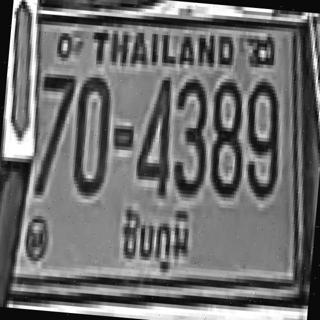N00: (68, 73, 112, 193)
N03: (169, 74, 211, 195)
N04: (133, 73, 175, 194)
N07: (33, 70, 75, 194)
N08: (206, 78, 248, 195)
N09: (240, 77, 284, 198)
P09: (112, 196, 196, 277)
